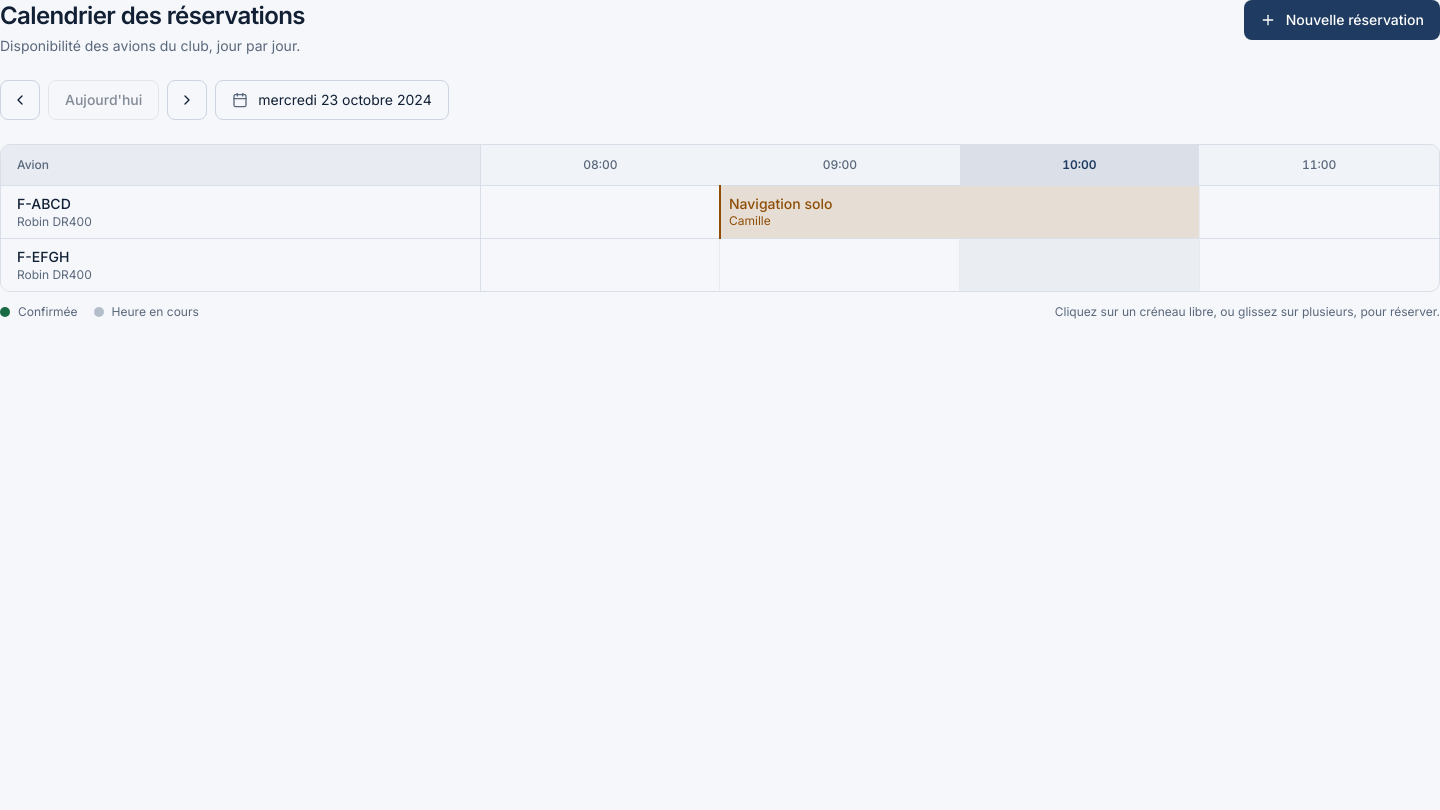
Test: ReservationCalendar › doit ouvrir le détail d'une réservation au clic sur son créneau
Expected: the table is shown, [1, 145, 1439, 290]
Click the text "Navigation solo".
click(781, 204)  # box [729, 195, 832, 212]
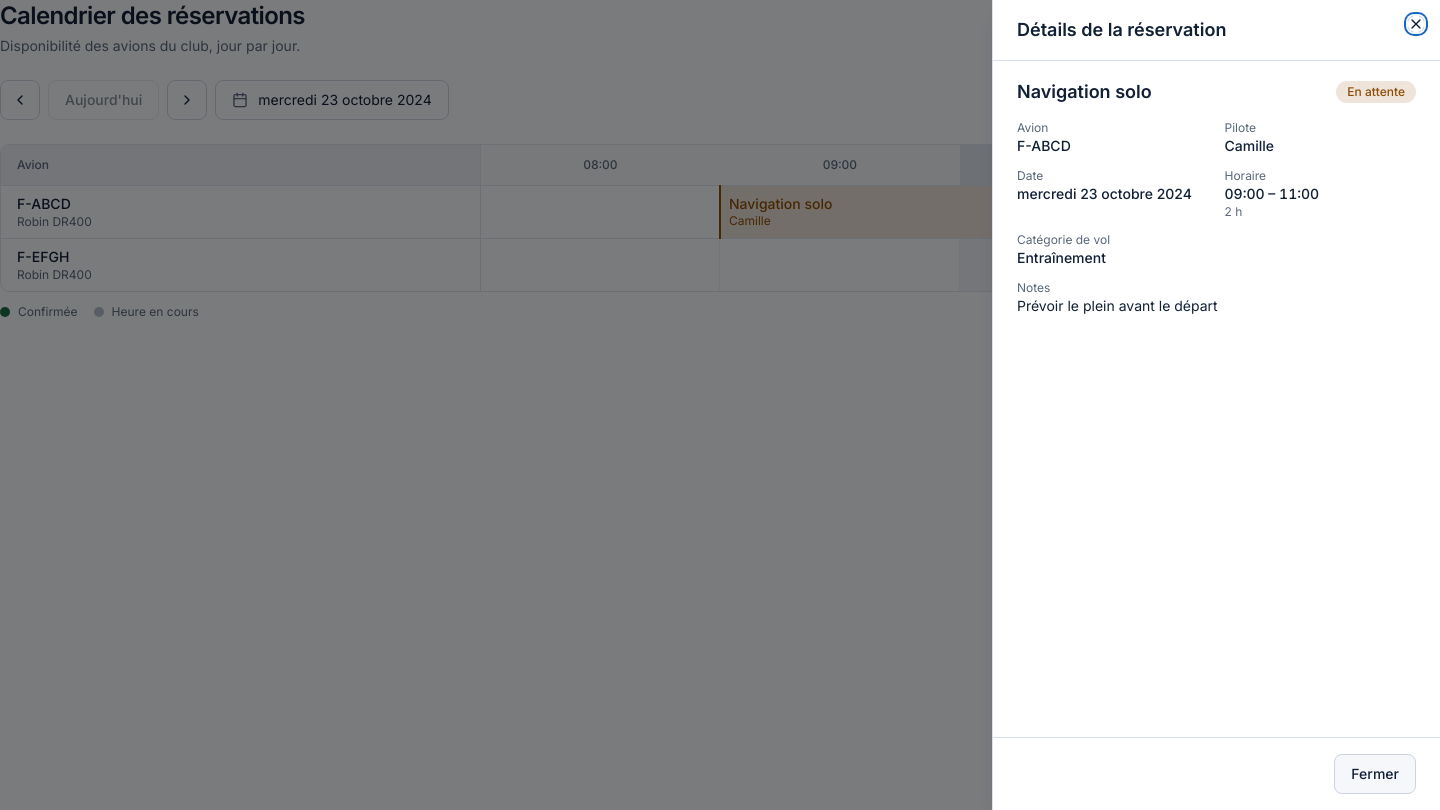
Now the heading "Navigation solo" is shown, box [1017, 81, 1152, 104]
Now the text "En attente" is shown, box [1336, 81, 1416, 103]
Now the text "F-ABCD" is shown, box [1017, 136, 1071, 154]
